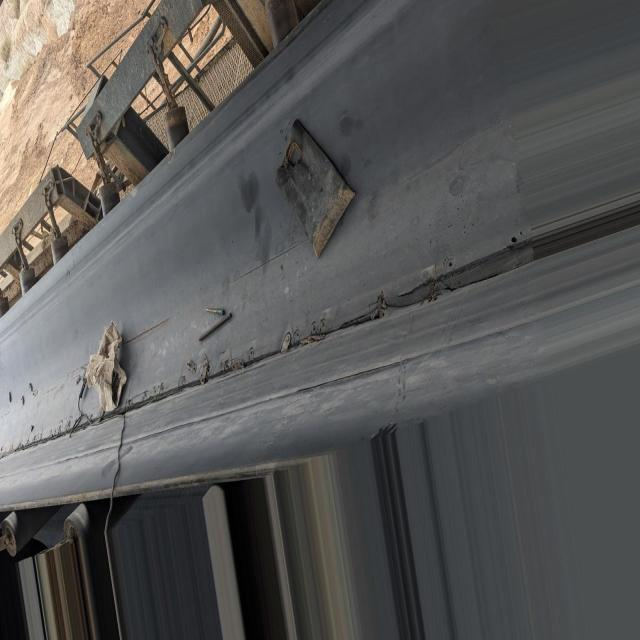Other Objects: (270, 115, 364, 257), (79, 320, 126, 496), (193, 290, 234, 345)
Roller: (59, 500, 139, 537), (6, 507, 59, 554), (166, 108, 197, 147), (101, 177, 121, 215), (48, 235, 69, 261), (17, 266, 32, 292)
Tear: (10, 243, 540, 443)
